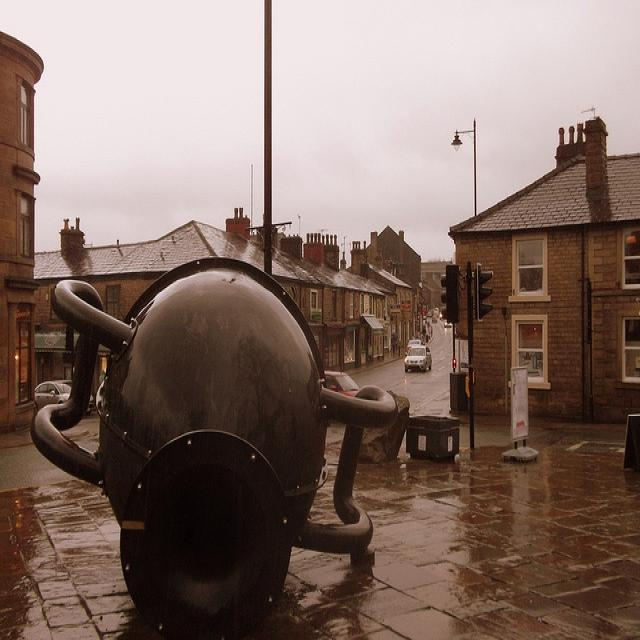car: (33, 379, 70, 409), (324, 367, 359, 396), (403, 342, 432, 370), (404, 336, 421, 352), (443, 316, 451, 327), (438, 308, 441, 319), (430, 315, 436, 320)
